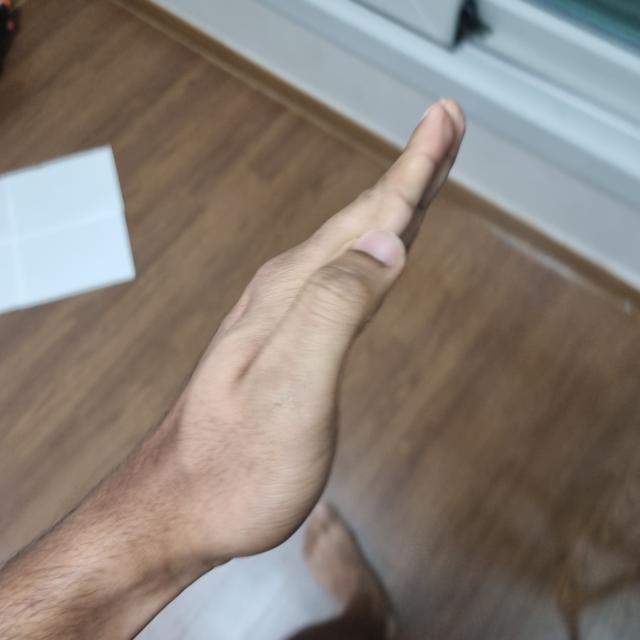Paper: (155, 104, 457, 597)
